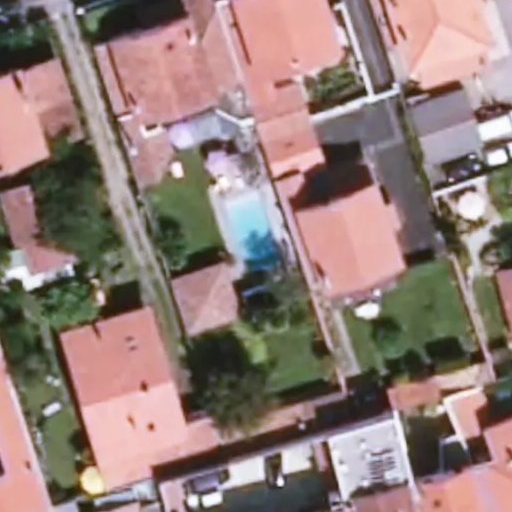pool: (220, 208, 288, 276)
